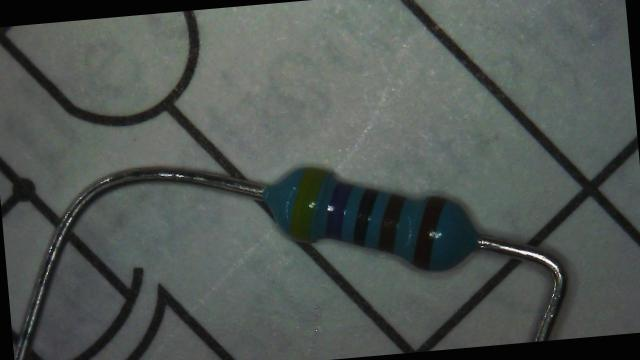black: (350, 188, 382, 246)
brown: (409, 196, 452, 269), (375, 193, 410, 253)
resistor: (245, 143, 486, 290)
violet: (322, 182, 356, 240)
yellow: (286, 167, 330, 241)
